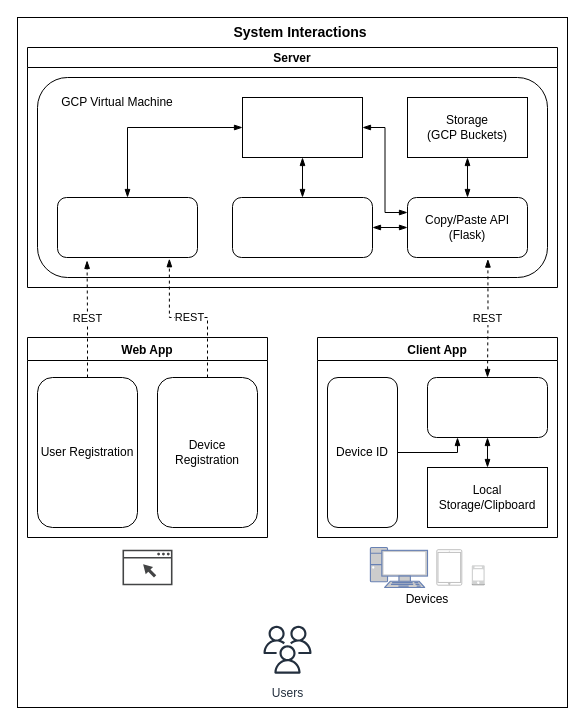
Image size: 585x725. Some labels were removed from this diagram. The centre of each missing label's shape, as x and y in pixels:
"Browser" goes at point 147,567.
"Copy/Paste Functionality" goes at point 487,407.
"Database (SQLite)" goes at point 302,127.
"Device Authentication (Flask)" goes at point 302,227.
"User Authentication (Flask)" goes at point 127,227.
